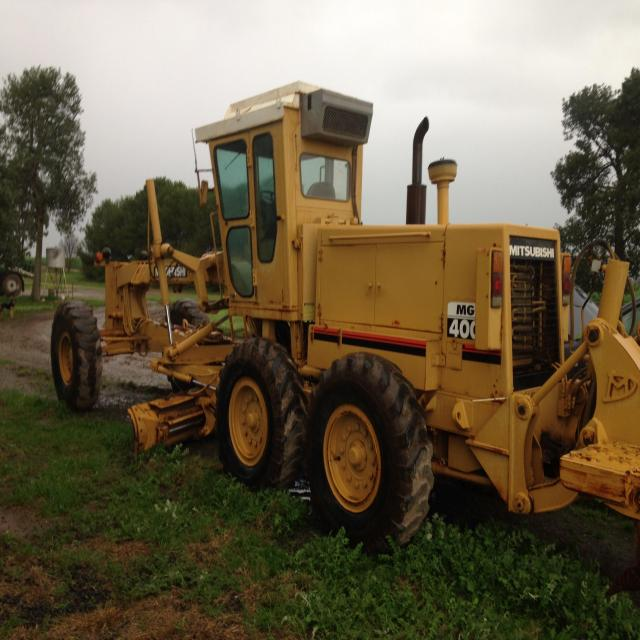buldozerpayloadergrader: (33, 58, 640, 574)
